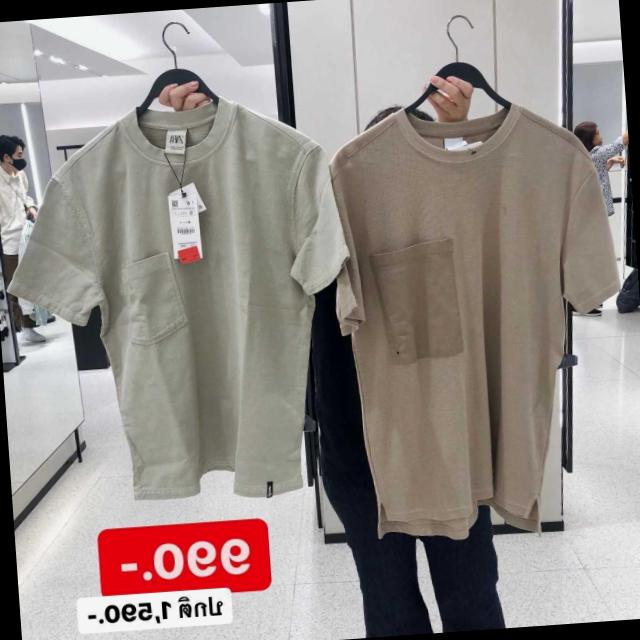Tshirt: (5, 89, 350, 513), (331, 99, 631, 532)
